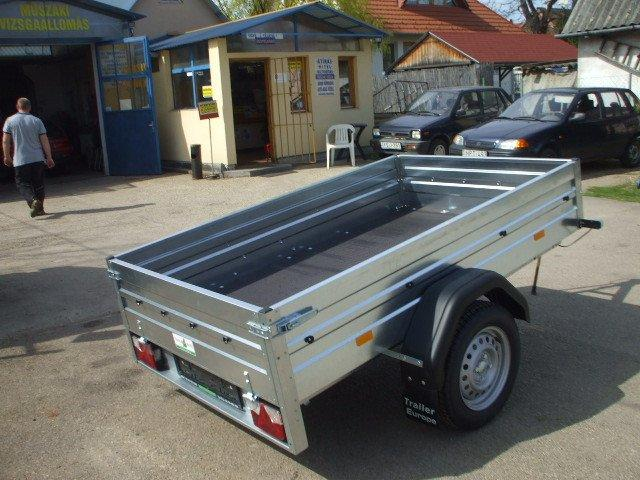trailer: (106, 151, 586, 456)
